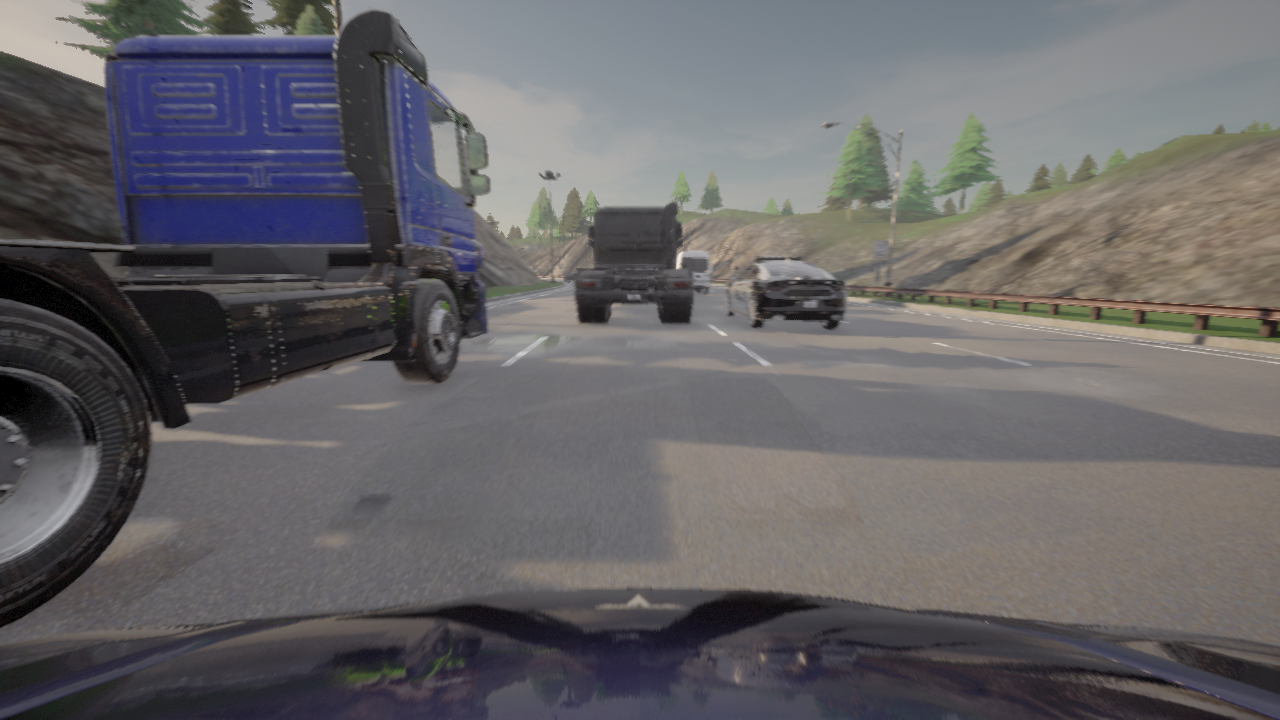cyclist: (0, 9, 490, 628), (0, 588, 1279, 719), (575, 203, 693, 322), (725, 256, 846, 327), (676, 250, 711, 293), (565, 271, 576, 281)
